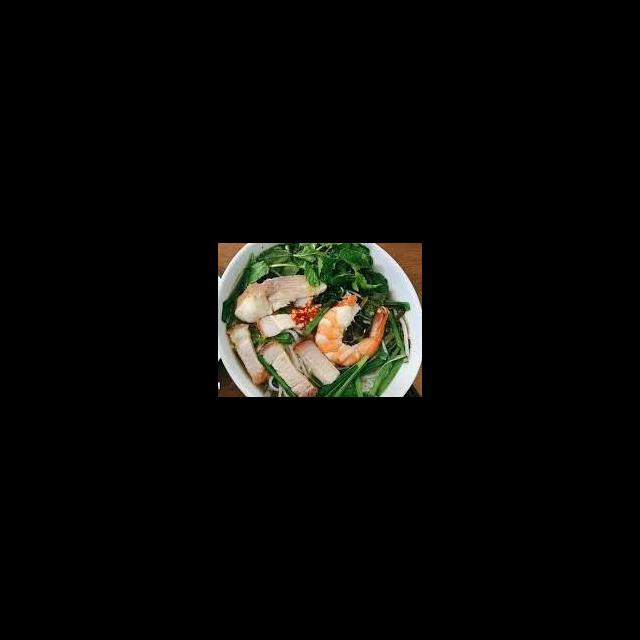bun: (265, 373, 292, 397)
ca: (232, 272, 329, 324)
thit heo quay: (257, 336, 320, 396), (224, 321, 272, 390), (292, 337, 342, 387), (253, 304, 320, 341)
tom: (313, 288, 392, 369)
